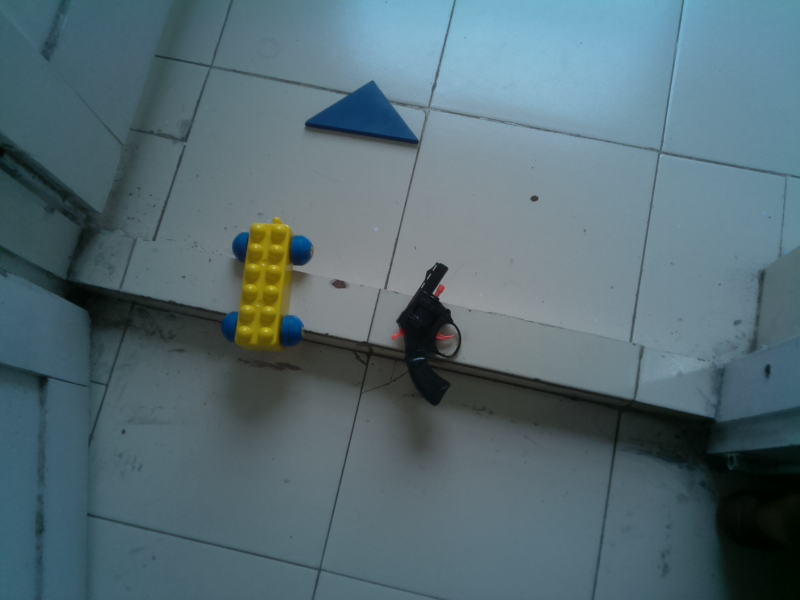Gun: (389, 260, 465, 408)
Triangle: (303, 78, 422, 151)
toy_Car: (220, 221, 311, 354)
